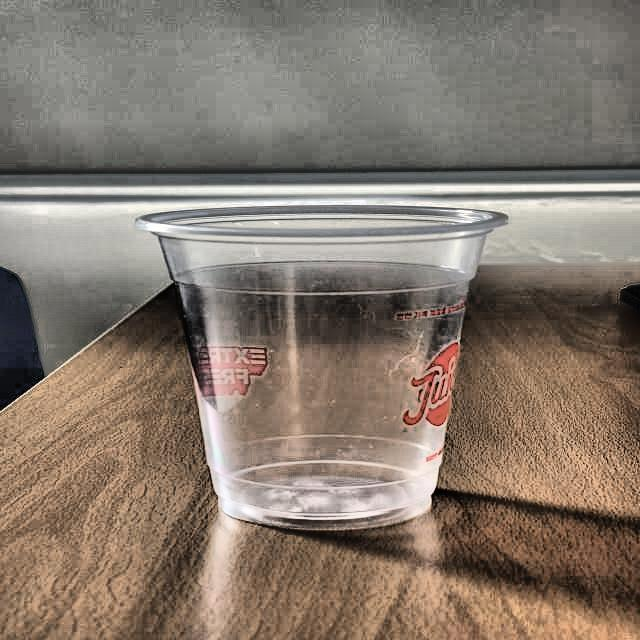plastic cup: (128, 205, 515, 530)
